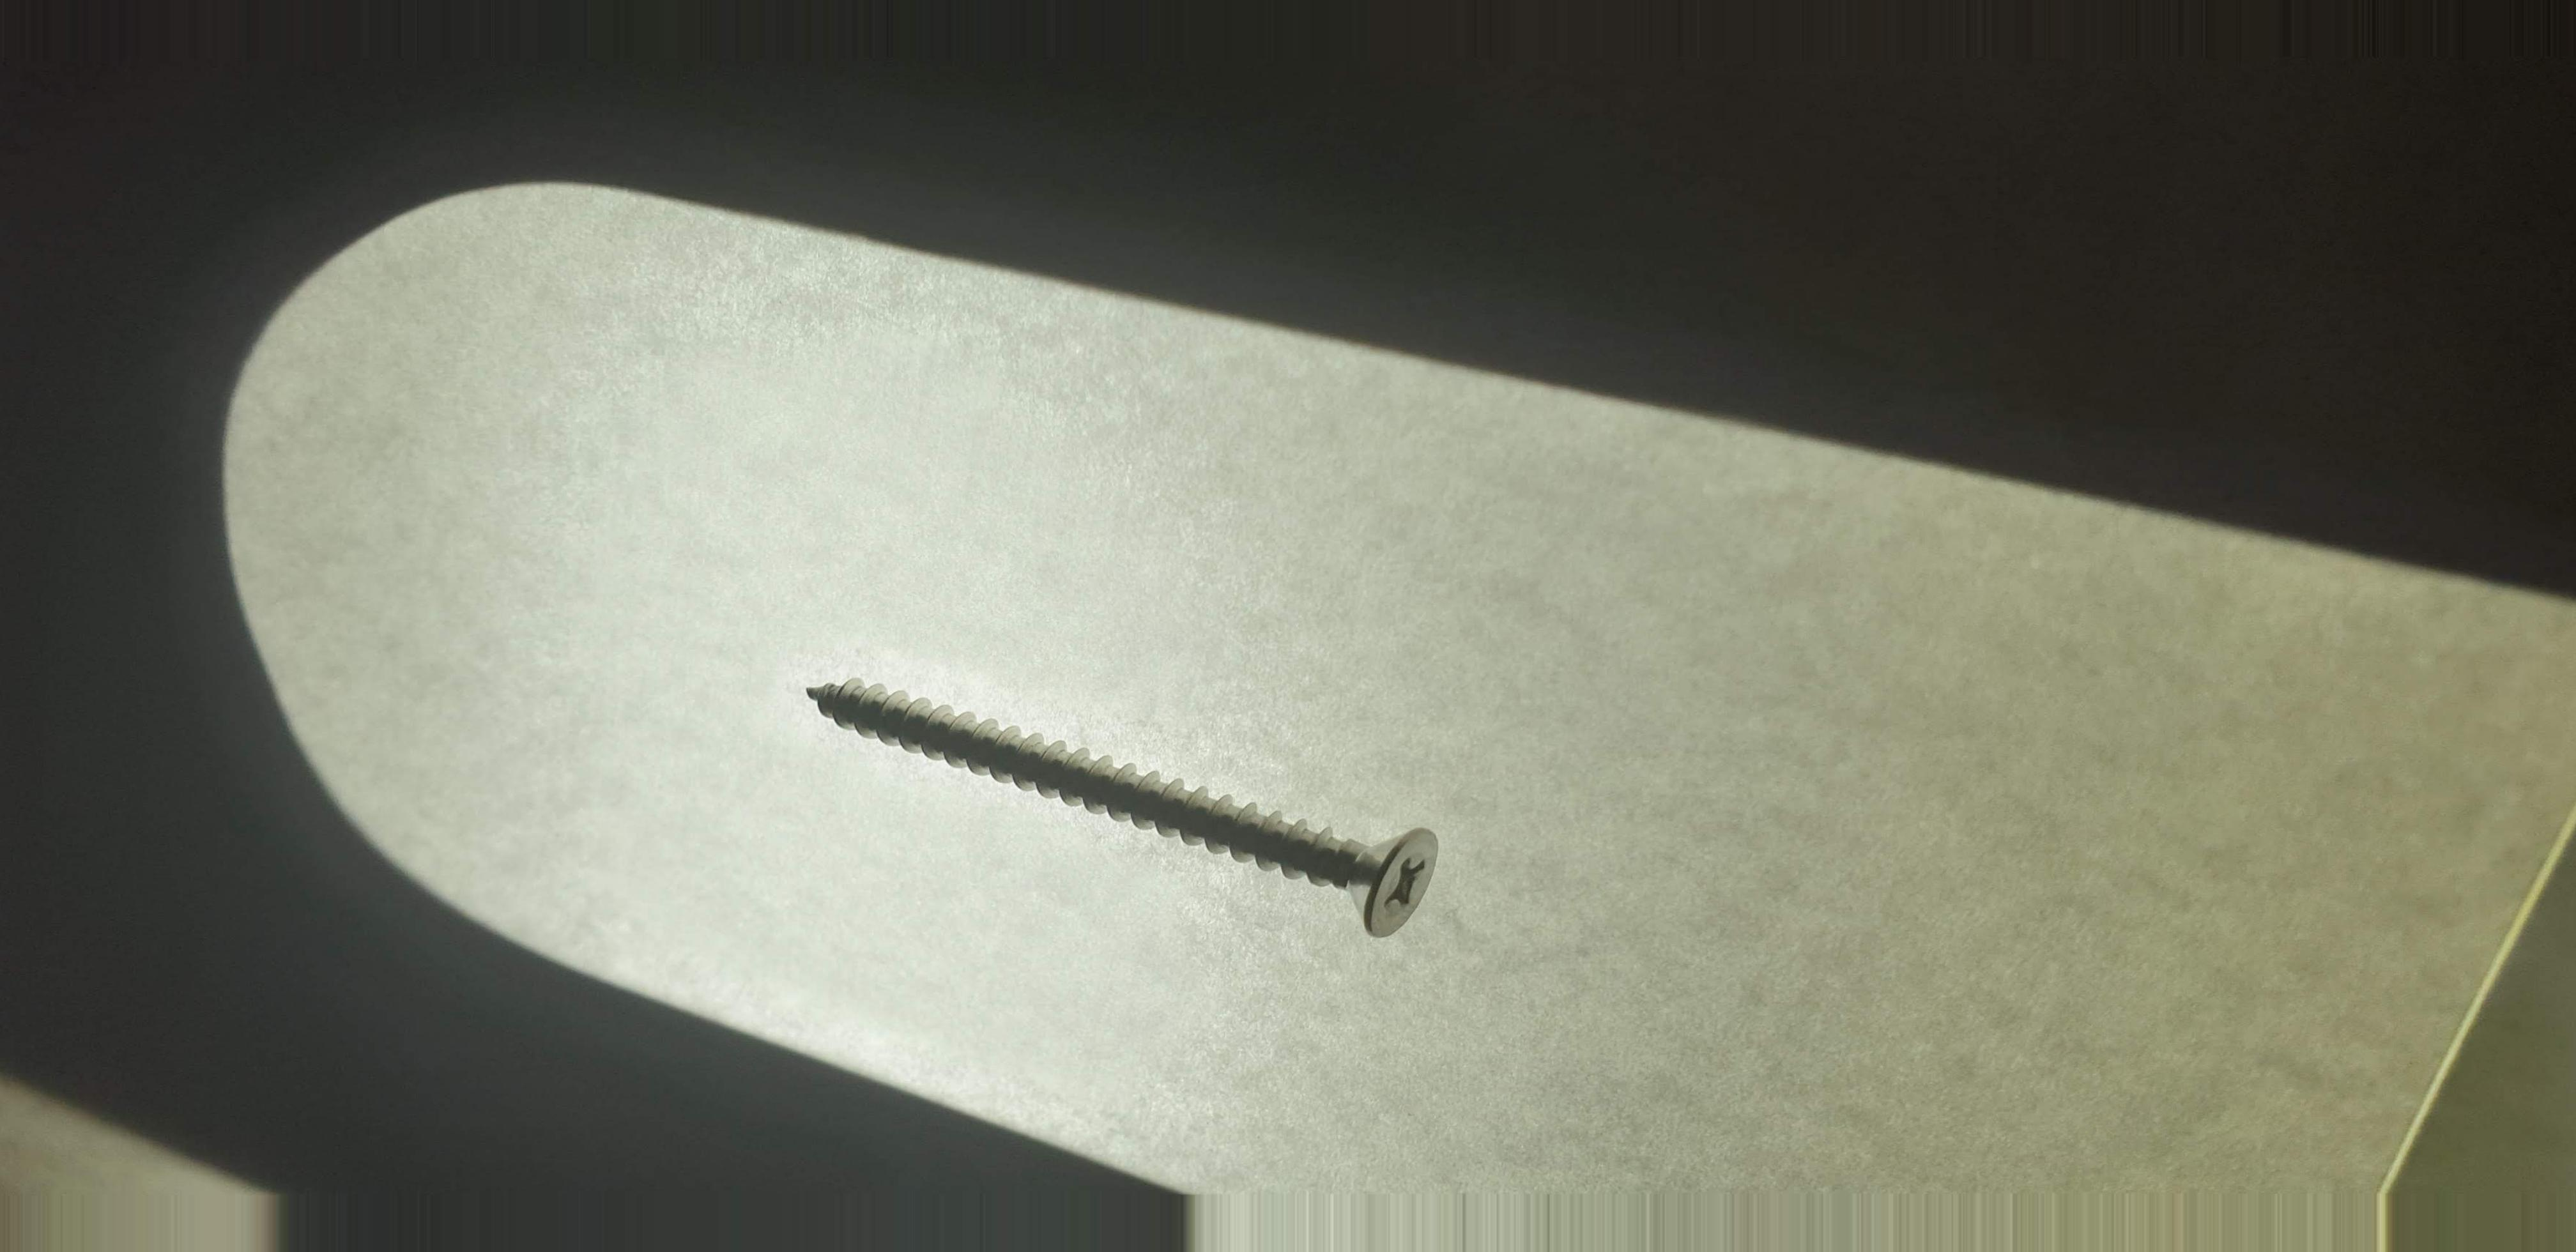S001: (780, 634, 1464, 953)
